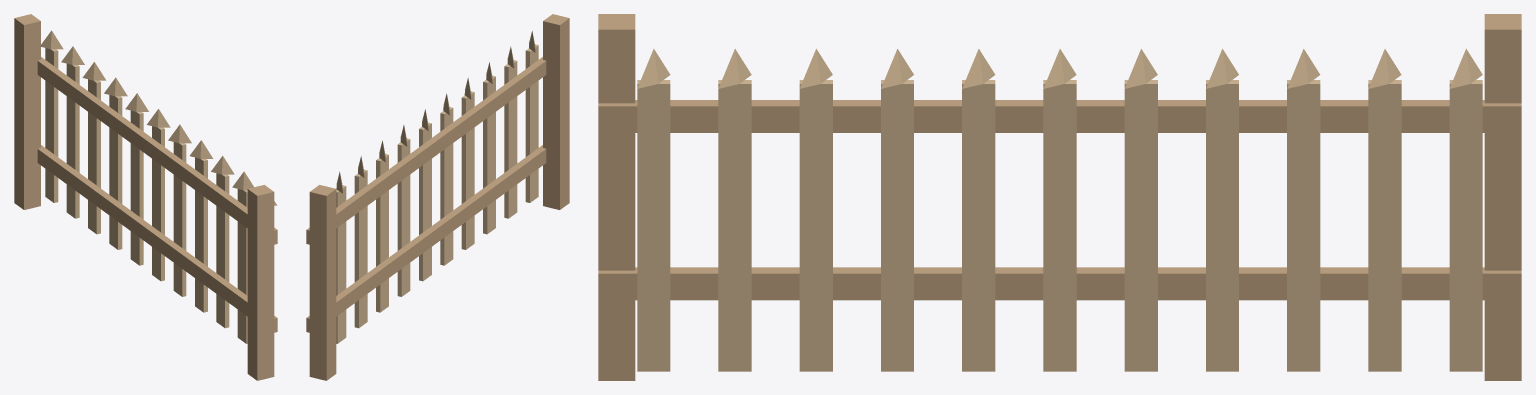
The model's file is fence-garden.glb.
3 views of the same model, side by side, from view 1: azimuth 30°, elevation 25°; view 2: azimuth 150°, elevation 25°; view 3: azimuth 270°, elevation 25° (orthographic). The views are drawn at different scales.
Parts seen in each view (by area): view 1: fence-garden; view 2: fence-garden; view 3: fence-garden.
Boxes of the visible parts, <box> form: fence-garden: <box>14,14,277,380</box>; fence-garden: <box>306,14,569,380</box>; fence-garden: <box>598,14,1521,380</box>.
Bounding box in the file's own units: 0.1803 × 1.05 × 2.5.
